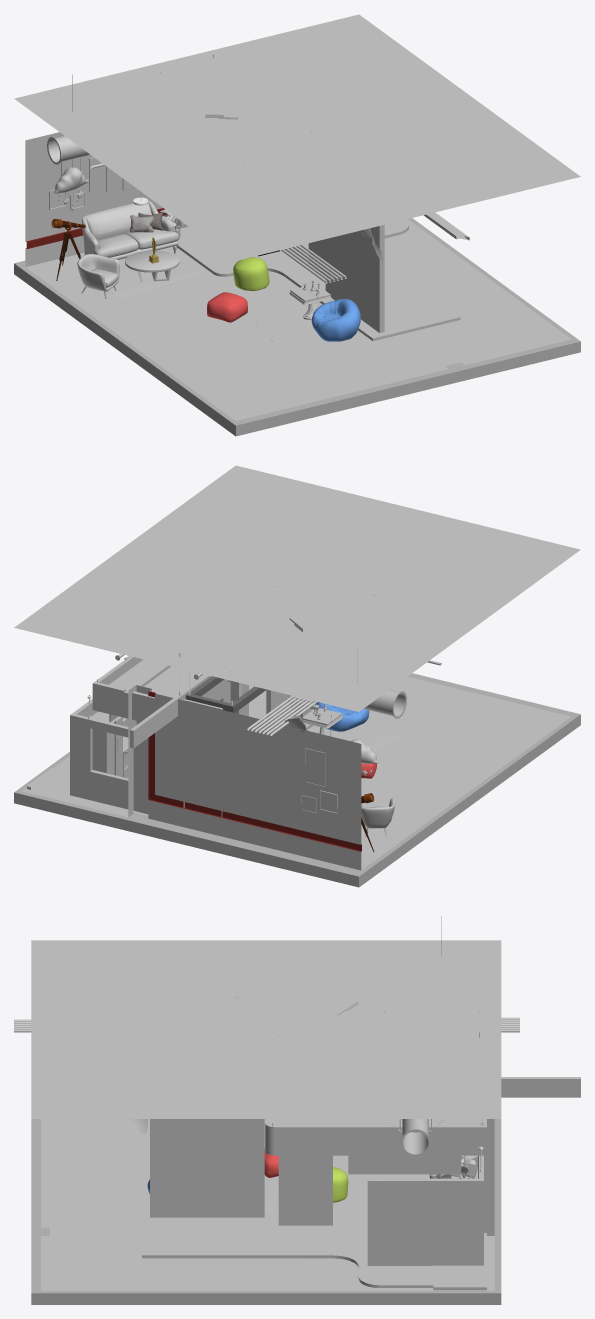
The model's file is selection.fbx.
The picture shows the model from 3 angles, top to bottom: view 1: azimuth 30°, elevation 25°; view 2: azimuth 150°, elevation 25°; view 3: azimuth 270°, elevation 25°; orthographic projection. The views are drawn at different scales.
Parts seen in each view (by area): view 1: ceiling, room.057, room.056, room.060, room.074, room.058, room.016, room.018, room.002, room.039, room.015, group1 (+8 smaller); view 2: ceiling, room.074, room.057, room.056, room.061, room.051, room.001, room.052, room.005, room.060, room.070, room.055 (+6 smaller); view 3: ceiling, room.057, room.060, room.058, room.061, room.056, room.051, room.059, room.043, room.052, room.072, room.004 (+2 smaller).
Boxes of the visible parts, box(x1,y1,x2,y2) form: ceiling: box(14, 14, 580, 260); room.057: box(25, 219, 571, 420); room.056: box(14, 218, 580, 436); room.060: box(176, 220, 460, 341); room.074: box(25, 132, 165, 266); room.058: box(325, 225, 384, 332); room.016: box(81, 201, 178, 259); room.018: box(246, 299, 323, 347); room.002: box(311, 299, 360, 341); room.039: box(108, 260, 201, 297); room.015: box(77, 254, 119, 298); group1: box(54, 74, 382, 261); ceiling: box(14, 465, 580, 711); room.074: box(148, 693, 361, 870); room.057: box(22, 676, 570, 870); room.056: box(14, 673, 580, 887); room.061: box(70, 699, 148, 814); room.051: box(92, 656, 241, 748); room.001: box(148, 691, 361, 851); room.052: box(109, 659, 210, 697); room.005: box(91, 711, 122, 777); room.060: box(27, 685, 312, 815); room.070: box(247, 660, 441, 736); room.055: box(185, 676, 266, 712); ceiling: box(31, 940, 501, 1118); room.057: box(41, 1119, 494, 1290); room.060: box(142, 1184, 486, 1290); room.058: box(150, 1119, 264, 1217); room.061: box(367, 1155, 483, 1265); room.056: box(31, 1119, 501, 1304); room.051: box(265, 1077, 580, 1155); room.059: box(278, 1155, 332, 1225); room.043: box(348, 1155, 461, 1174); room.052: box(270, 1119, 482, 1125); room.072: box(478, 1119, 494, 1235); room.004: box(400, 1119, 430, 1156).
Size of the model in its own units: 987 by 579 by 1316.
